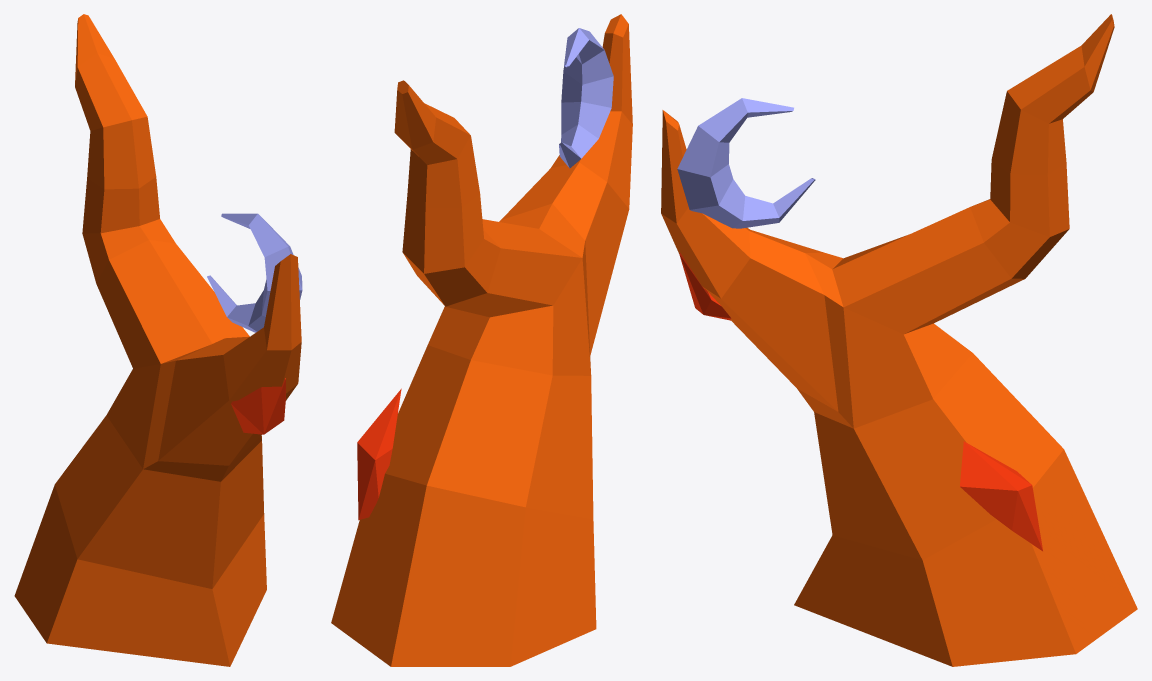
File: st1_tree3.fbx
3 views of the same model, side by side, from view 1: azimuth 30°, elevation 25°; view 2: azimuth 150°, elevation 25°; view 3: azimuth 270°, elevation 25° (orthographic). The views are drawn at different scales.
Parts seen in each view (by area): view 1: 3_crysral1; view 2: 3_crysral1; view 3: 3_crysral1.
Boxes of the visible parts, bbox=[...] form: 3_crysral1: bbox=[14, 14, 302, 666]; 3_crysral1: bbox=[331, 14, 632, 666]; 3_crysral1: bbox=[661, 14, 1137, 666].
Size of the model in its own units: 77.61 by 185 by 134.
